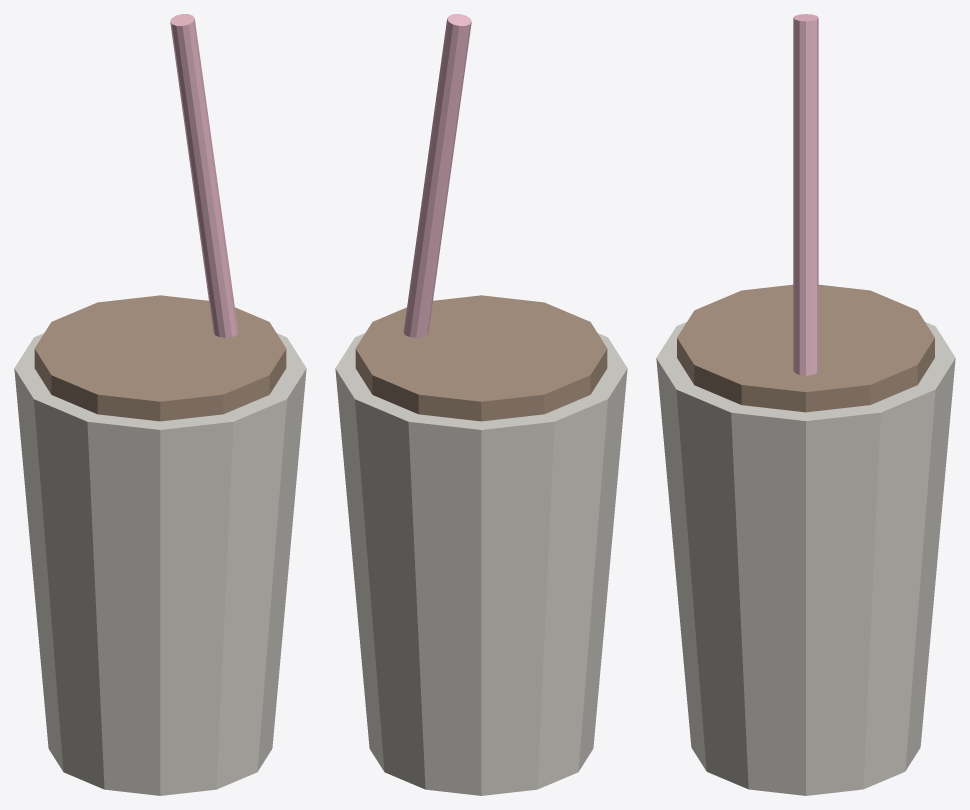
Rendered from milkTea.glb.
The picture shows the model from 3 angles, left to right: view 1: azimuth 30°, elevation 25°; view 2: azimuth 150°, elevation 25°; view 3: azimuth 270°, elevation 25°; orthographic projection. The views are drawn at different scales.
Visible parts, largest first — view 1: milkTea; view 2: milkTea; view 3: milkTea.
Part boxes in pixels (bbox=[...]): milkTea: bbox=[14, 14, 306, 795]; milkTea: bbox=[335, 14, 627, 795]; milkTea: bbox=[656, 14, 955, 795].
Bounding box in the file's own units: 0.094 × 0.2572 × 0.094.
